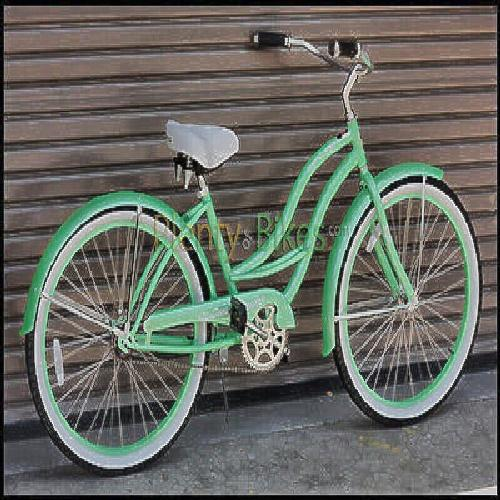bicycle: (32, 39, 472, 452)
